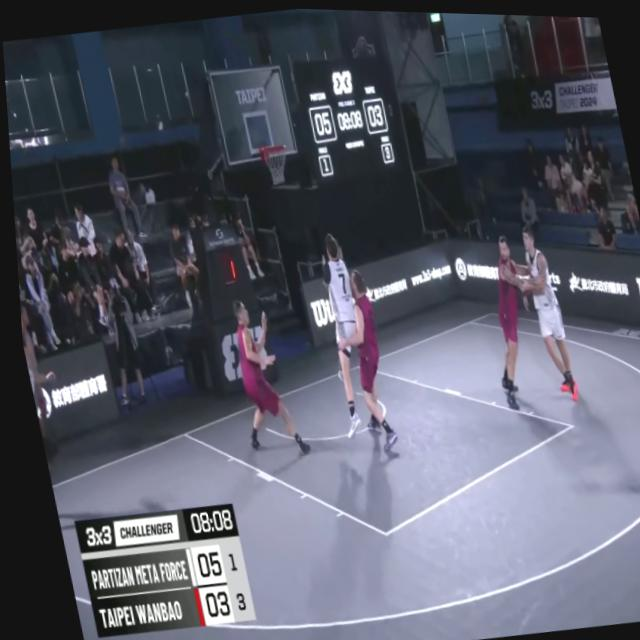hoop: (256, 139, 293, 188)
player: (215, 287, 309, 468), (320, 259, 401, 465), (306, 222, 376, 440), (502, 216, 579, 408), (465, 227, 542, 408), (16, 303, 78, 521)
